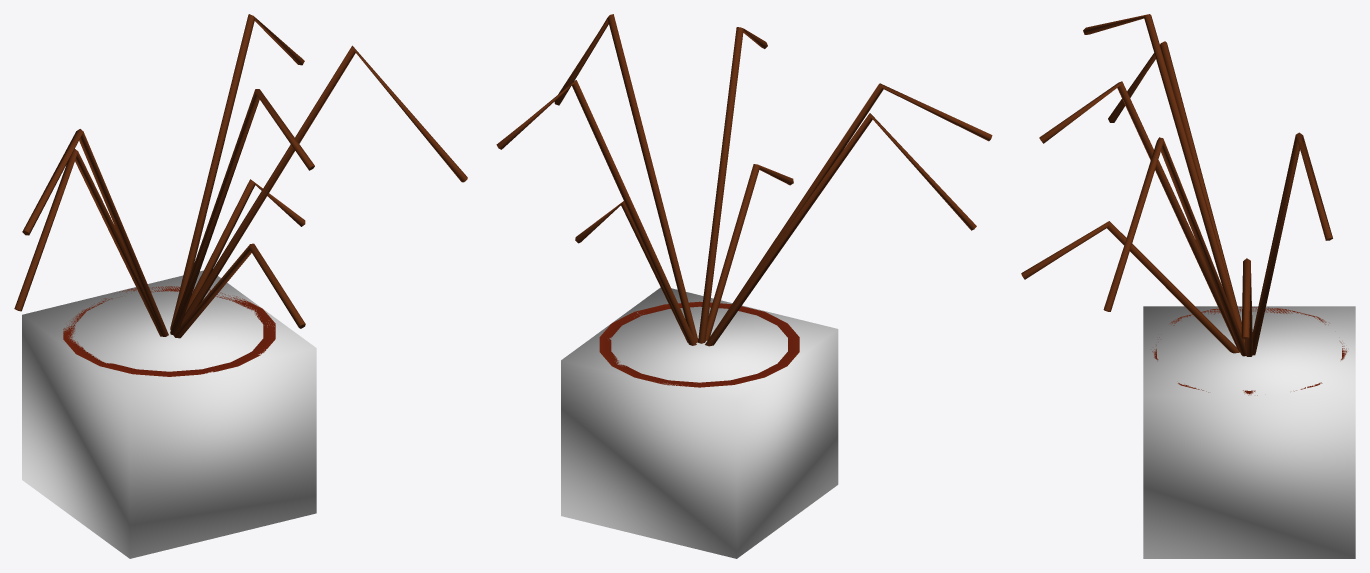
Rendered from planta_muerta.glb.
3 renders of one model, left to right at view 1: azimuth 30°, elevation 25°; view 2: azimuth 150°, elevation 25°; view 3: azimuth 270°, elevation 25°, orthographic. The views are drawn at different scales.
Parts seen in each view (by area): view 1: maceta-colcaja, planta; view 2: maceta-colcaja, planta; view 3: maceta-colcaja, planta.
Part boxes in pixels (x1,y1,x2,y2): maceta-colcaja: [22, 270, 316, 558]; planta: [14, 14, 467, 376]; maceta-colcaja: [561, 287, 838, 558]; planta: [496, 14, 992, 387]; maceta-colcaja: [1143, 306, 1355, 558]; planta: [1021, 14, 1346, 395].
Bounding box in the file's own units: 0.6331 × 0.5986 × 0.4096.
